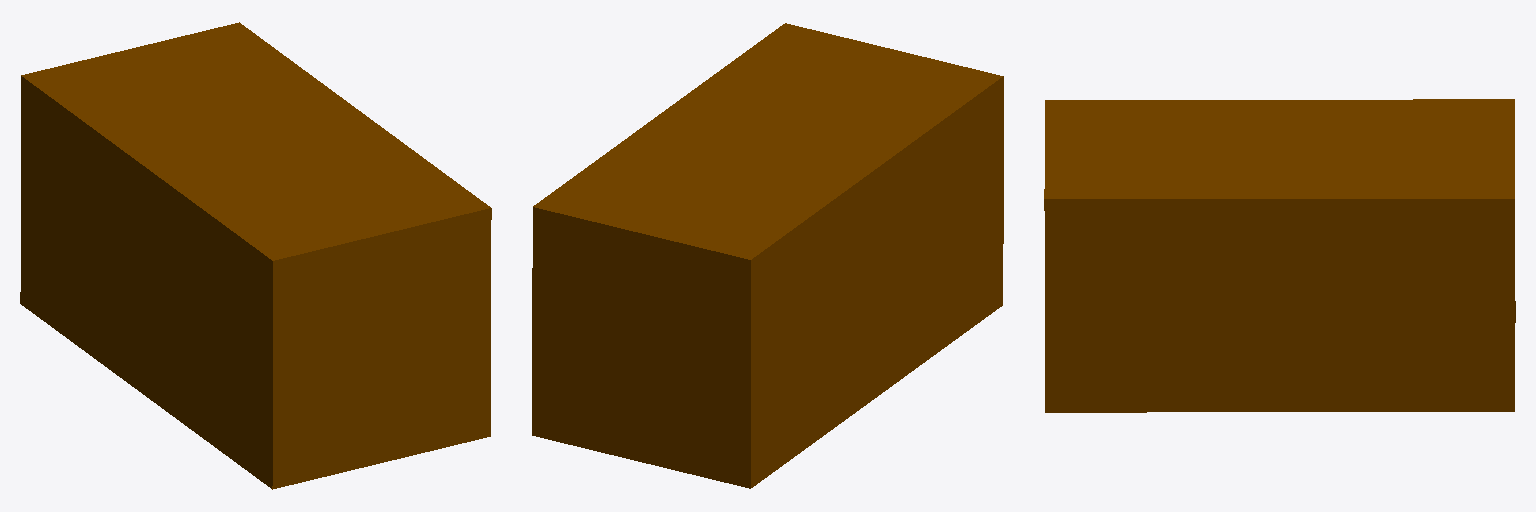
The robot description file, URDF, robot "model.urdf":
<?xml version="0.0" ?>
<robot name="model.urdf">

	<material name="orange">
		<color rgba="0.5 0.3 0 1"/>
	</material>

	<link name="baseLink">
		<inertial>
			<mass value="0.208"/>
			<inertia  ixx="0.00026217" ixy="0.00"  ixz="0.00" iyy="0.00026217" iyz="0.00" izz="0.00010487" />
		</inertial>
		<visual>
			<origin xyz="0 0 0" rpy="1.57 3.14 1.57"/>
			<geometry>
				<box size="0.11 0.055 0.055"/>
			</geometry>
			<material name="orange"/>
		</visual>
		<collision>
			<origin xyz="0 0 0" rpy="1.57 3.14 1.57"/>
			<geometry>
				<box size="0.11 0.055 0.055"/>
			</geometry>
		</collision>
	</link>
</robot>

--- Facts derived from the render (not from the file) ---
3 views of the same robot in one strip: view 1: azimuth 30°, elevation 25°; view 2: azimuth 150°, elevation 25°; view 3: azimuth 270°, elevation 25° (orthographic).
Model model.urdf with 1 links and 0 joints (none), rooted at baseLink, posed every joint at zero.
Links seen in each view (by area): view 1: baseLink; view 2: baseLink; view 3: baseLink.
Link boxes in pixels (bbox=[...]): baseLink: bbox=[20, 22, 491, 489]; baseLink: bbox=[532, 23, 1003, 488]; baseLink: bbox=[1044, 99, 1515, 412].
Size in the robot's own frame: 0.0551 by 0.1101 by 0.0552 metres.
Geometry: primitives only (box / cylinder / sphere), no mesh files.